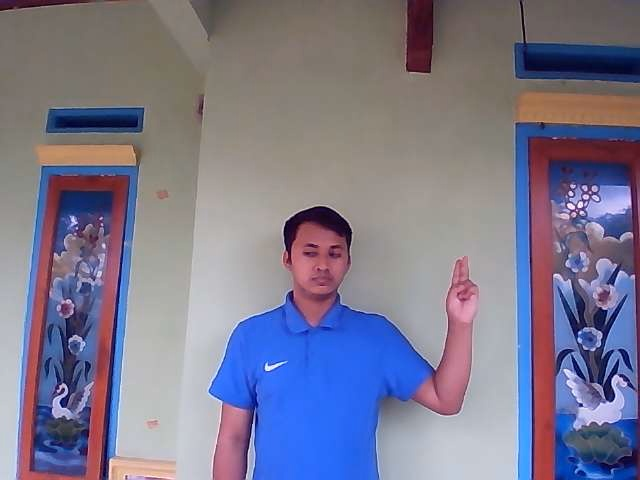U: (445, 254, 479, 325)
